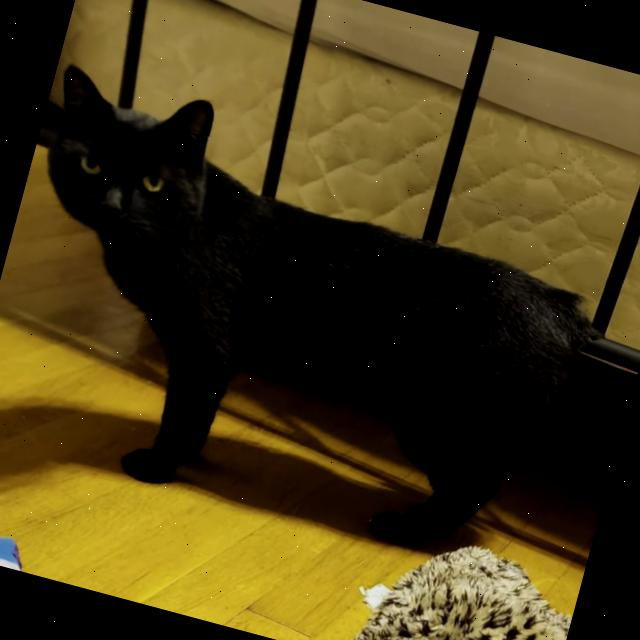manx_cat: (17, 51, 255, 282)
